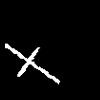single_crochet: (5, 44, 59, 83)
